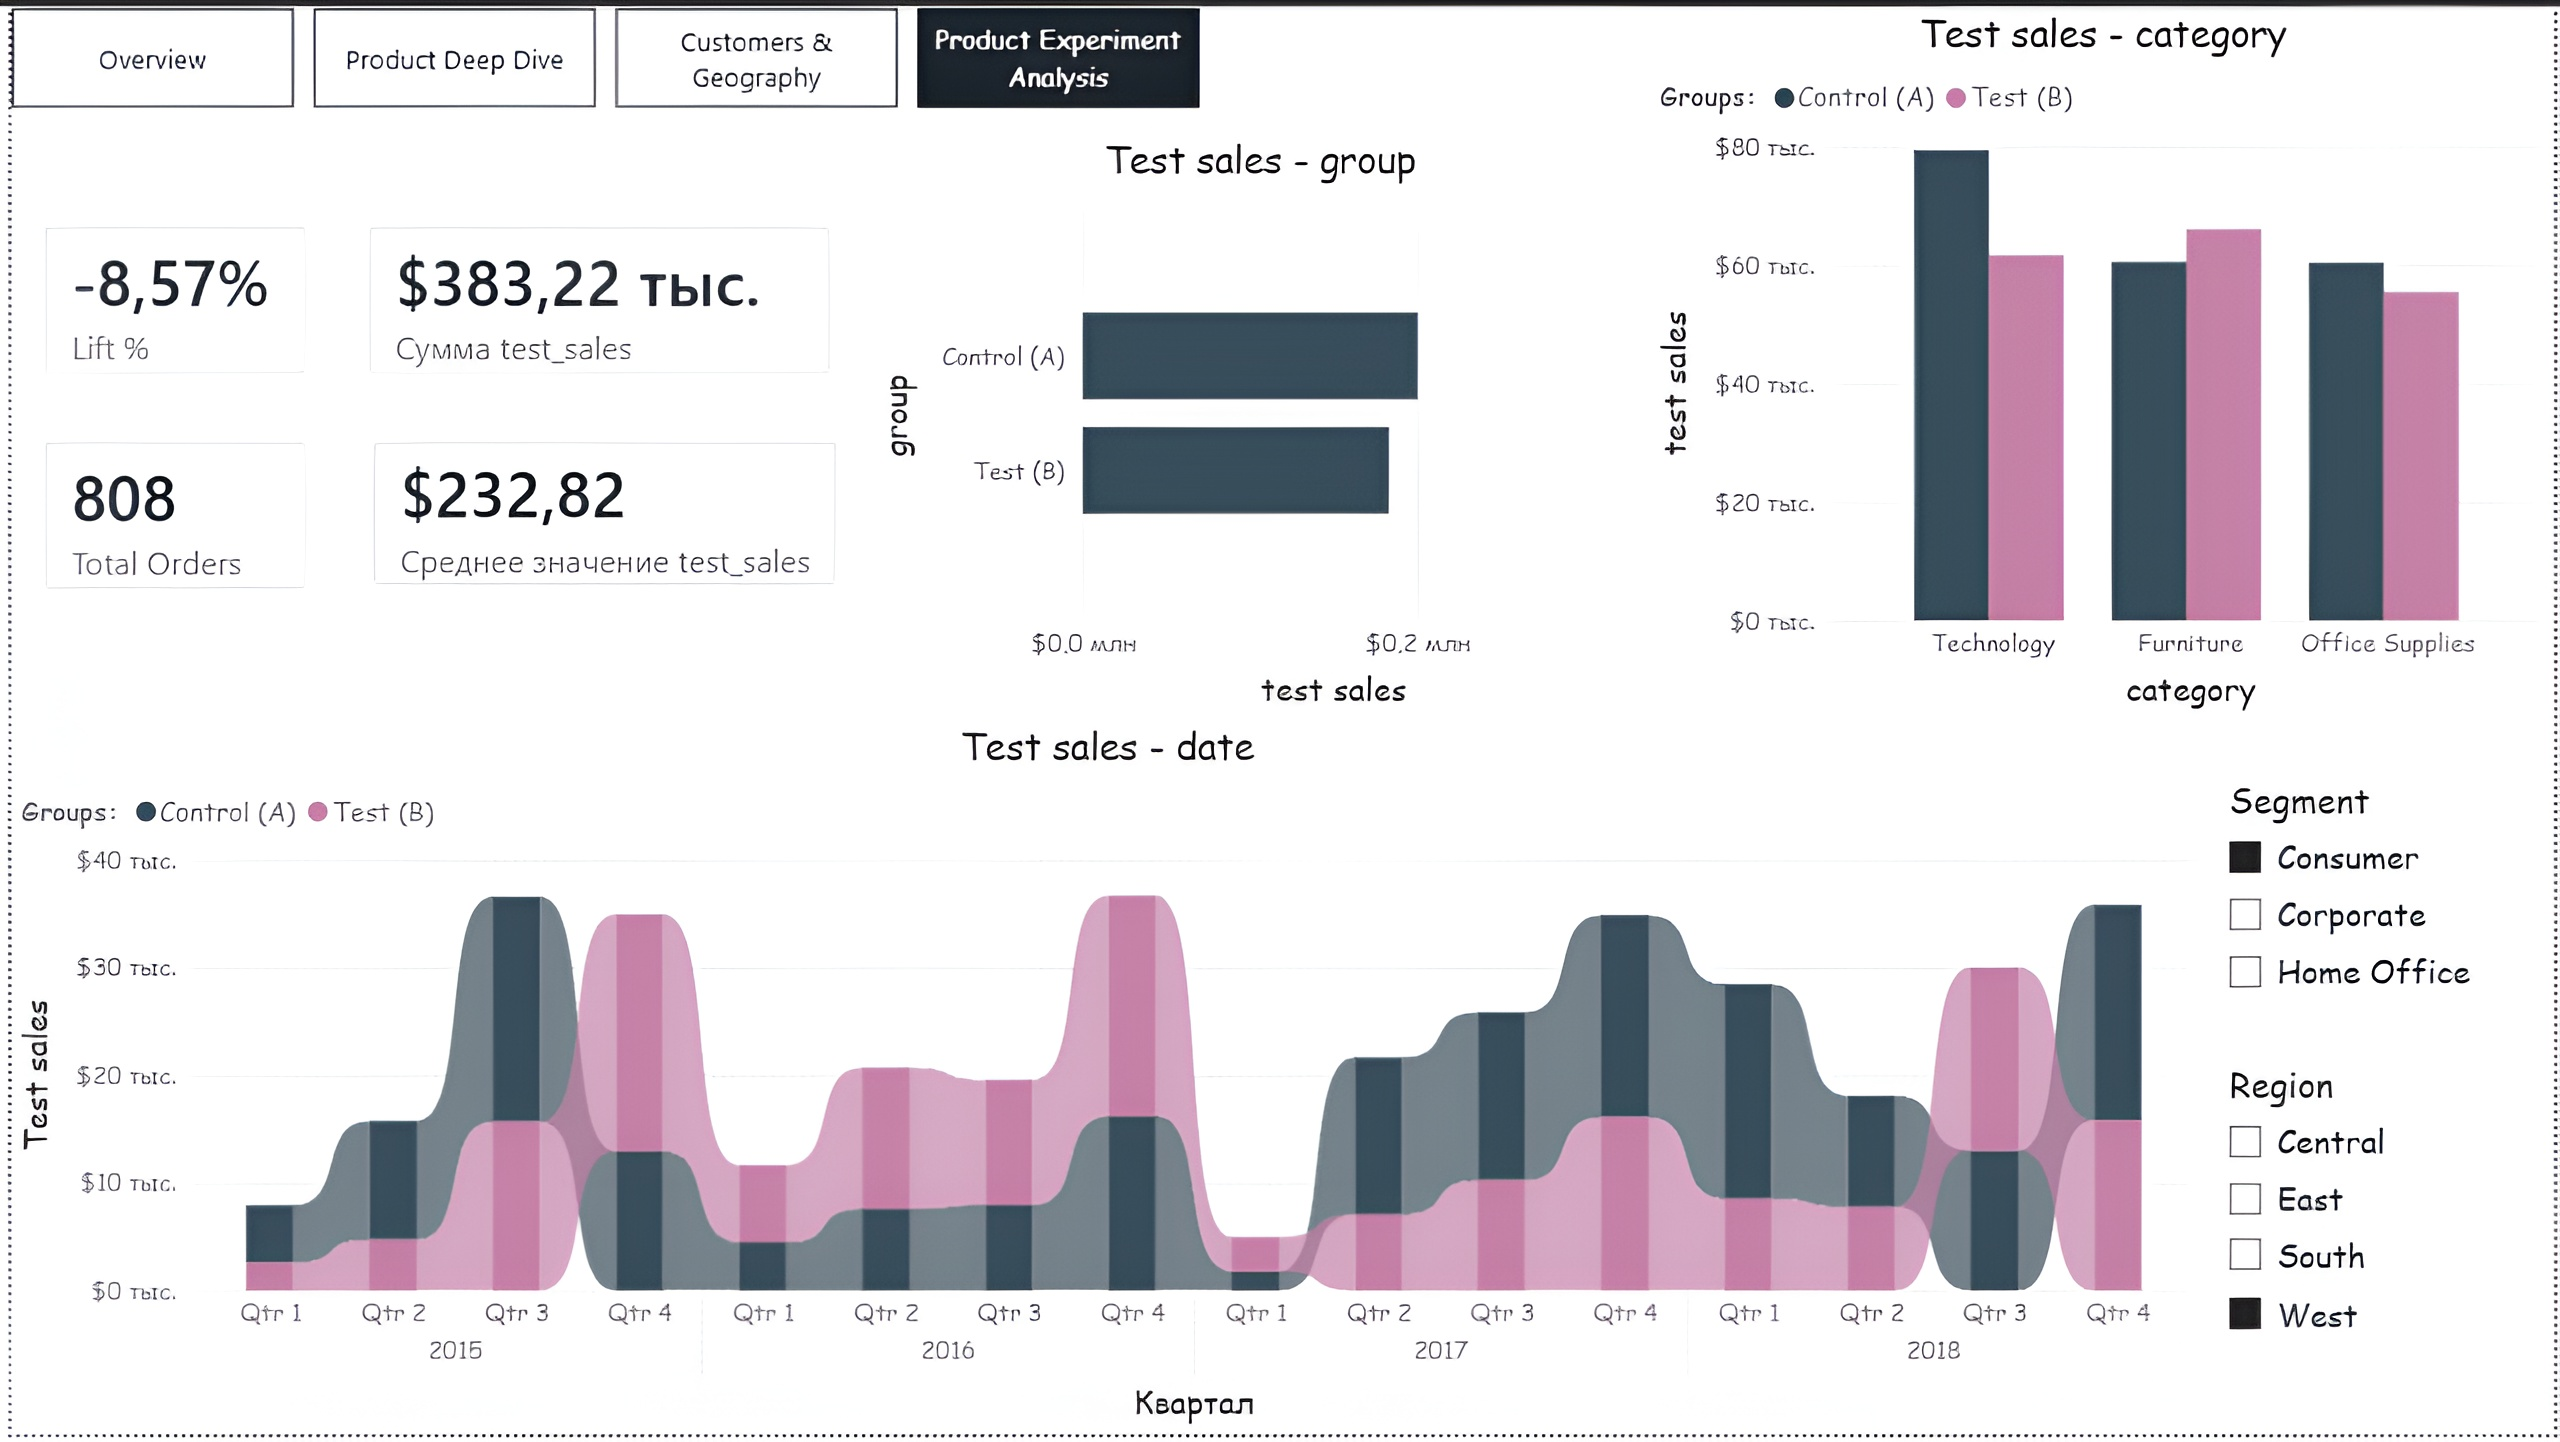

Layout of this report page (visuals, bound fields, positions):
{"tool":"powerbi","page":{"name":"Product Experiment Analysis","canvas":[1280,720],"ordinal":3},"visuals":[{"type":"clusteredBarChart","title":"Test sales - group","fields":{"Category":["superstore_project orders_ab_test.ab_group"],"Y":["Sum(orders_ab_test.test_sales)"]},"box":[433.1,63.6,391.1,296.4],"z":0},{"type":"cardVisual","fields":{"Data":["orders_ab_test.Lift %"]},"box":[0,94.7,165.1,108.3],"z":1000},{"type":"slicer","fields":{"Values":["Customers.segment"]},"box":[1103,383,177.3,143.5],"z":2000},{"type":"cardVisual","fields":{"Data":["Sum(orders_ab_test.test_sales)"]},"box":[162.4,94.7,266.6,108.3],"z":3000},{"type":"cardVisual","fields":{"Data":["Orders.Total Orders"]},"box":[0,203,165.1,108.3],"z":4000},{"type":"cardVisual","fields":{"Data":["Avg(orders_ab_test.test_sales)"]},"box":[165.1,203,268,106.9],"z":5000},{"type":"pageNavigator","box":[0,1.4,600,50],"z":6000},{"type":"ribbonChart","title":"Test sales - date","fields":{"Series":["orders_ab_test.ab_group"],"Y":["Sum(orders_ab_test.test_sales)"],"Category":["orders_ab_test.order_date.Изменение.Иерархия дат.Год","orders_ab_test.order_date.Изменение.Иерархия дат.Квартал"]},"box":[0,360,1103,360],"z":7000},{"type":"clusteredColumnChart","title":"Test sales - category","fields":{"Category":["Products.category"],"Y":["Sum(orders_ab_test.test_sales)"],"Series":["orders_ab_test.ab_group"]},"box":[824.2,0,456.1,360],"z":8000},{"type":"slicer","fields":{"Values":["Geography.region"]},"box":[1103,526.5,177.3,193.5],"z":9000}]}

Visuals, with their boxes in screenshot pixels (x1, y1, x2, y2), scaled from the page's 1280x720 canvas onto the 2560x1442 screenshot:
"Test sales - group" clusteredBarChart: (left=866, top=127, right=1648, bottom=721)
cardVisual - orders_ab_test.Lift %: (left=0, top=190, right=330, bottom=407)
slicer - Customers.segment: (left=2206, top=767, right=2559, bottom=1054)
cardVisual - Sum(orders_ab_test.test_sales): (left=325, top=190, right=858, bottom=407)
cardVisual - Orders.Total Orders: (left=0, top=407, right=330, bottom=623)
cardVisual - Avg(orders_ab_test.test_sales): (left=330, top=407, right=866, bottom=621)
pageNavigator: (left=0, top=3, right=1200, bottom=103)
"Test sales - date" ribbonChart: (left=0, top=721, right=2206, bottom=1441)
"Test sales - category" clusteredColumnChart: (left=1648, top=0, right=2559, bottom=721)
slicer - Geography.region: (left=2206, top=1054, right=2559, bottom=1441)
